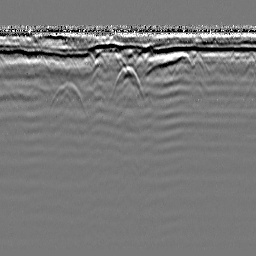cavity: (109, 63, 145, 104)
